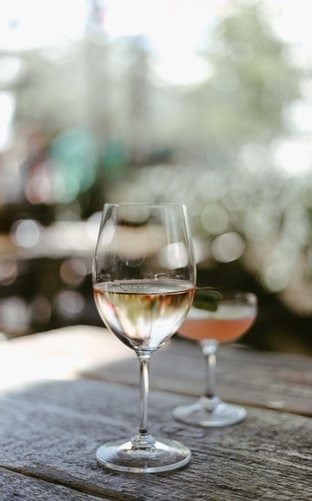whiskey: (93, 200, 198, 472)
